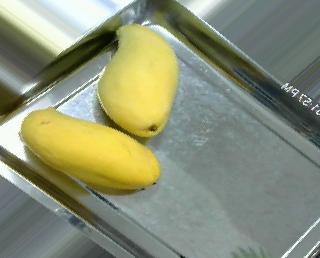Mango: (19, 107, 159, 190), (96, 24, 180, 136)
